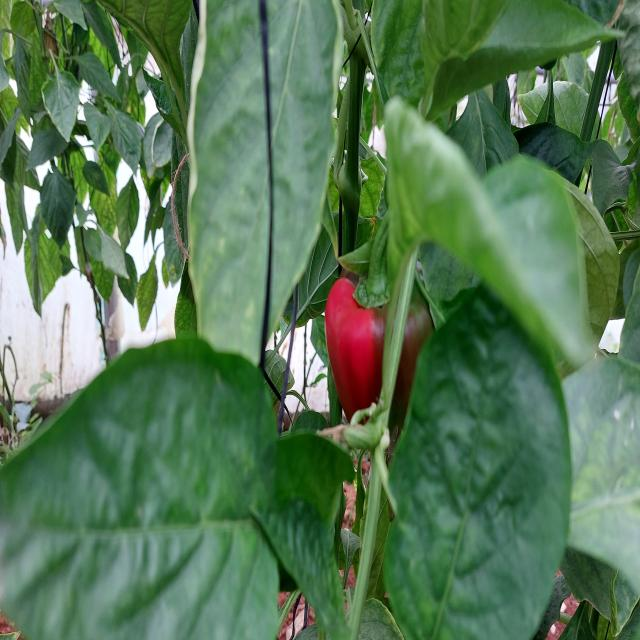Red-Ready-to-Harvest: (326, 280, 431, 428)
